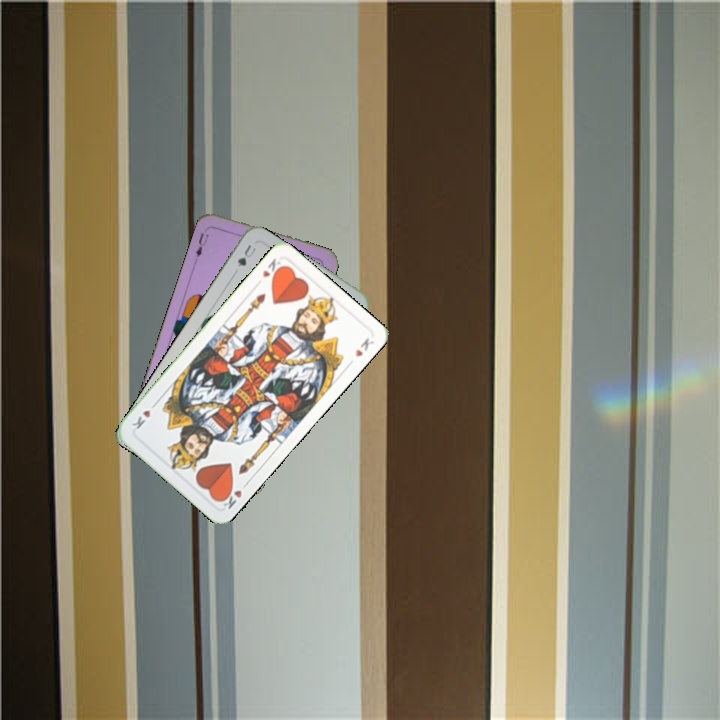EU: (192, 229, 211, 259)
GU: (233, 240, 259, 270)
HK: (215, 478, 251, 512), (258, 254, 287, 283)
